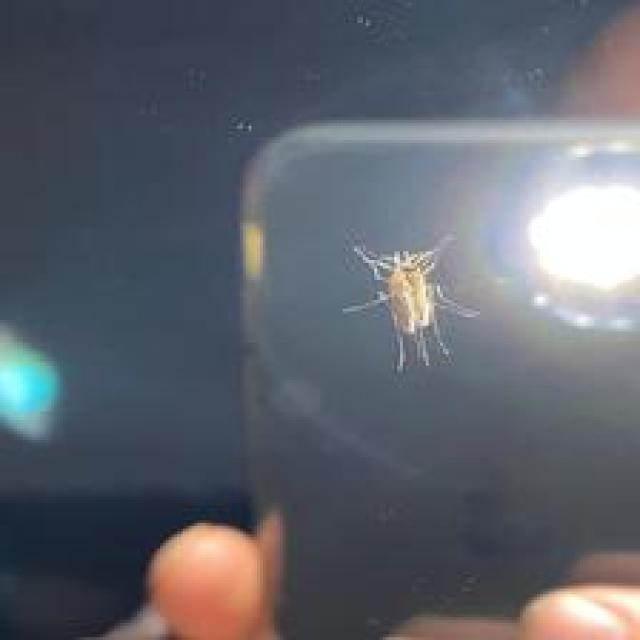Culex: (342, 233, 482, 373)
